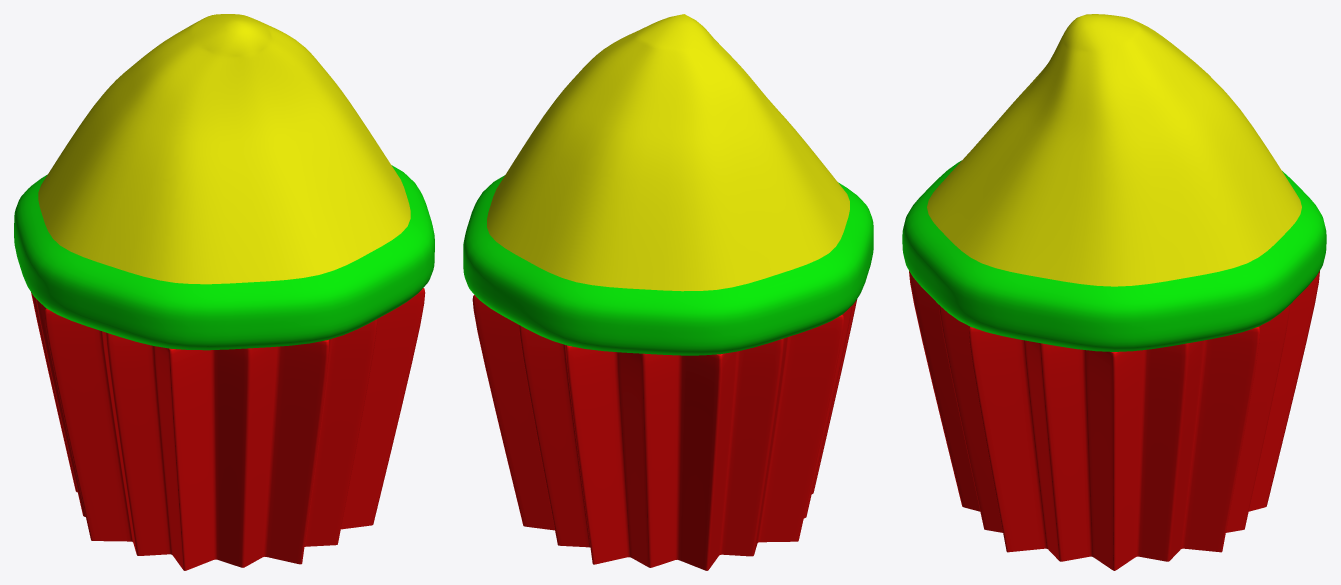
File: Aufbewahrungskiste_3_high.fbx
The picture shows the model from 3 angles, left to right: view 1: azimuth 30°, elevation 25°; view 2: azimuth 150°, elevation 25°; view 3: azimuth 270°, elevation 25°; orthographic projection. The views are drawn at different scales.
Parts seen in each view (by area): view 1: polySurface1; view 2: polySurface1; view 3: polySurface1.
Boxes of the visible parts, x1=… form: polySurface1: x1=14, y1=14, x2=434, y2=570; polySurface1: x1=463, y1=14, x2=873, y2=570; polySurface1: x1=902, y1=14, x2=1326, y2=570.
Size of the model in its own units: 0.8126 by 1.04 by 0.8126.
